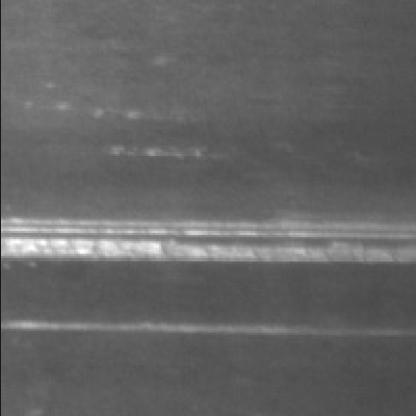scratches: (4, 208, 416, 266), (4, 312, 360, 337)
